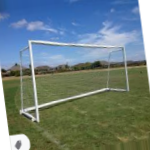goals: (18, 38, 131, 124)
